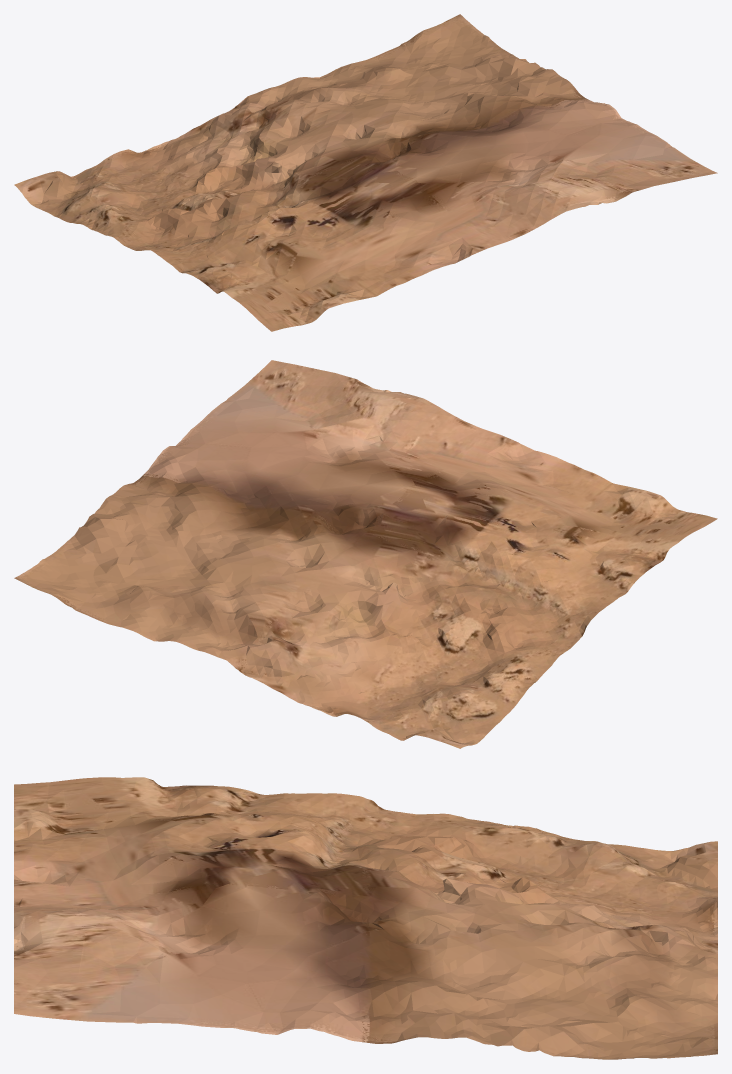
The picture shows the model from 3 angles, top to bottom: view 1: azimuth 30°, elevation 25°; view 2: azimuth 150°, elevation 25°; view 3: azimuth 270°, elevation 25°; orthographic projection. The views are drawn at different scales.
Bounding box in the file's own units: 2.09 × 0.4622 × 2.09.
2 materials, 2 textured.
